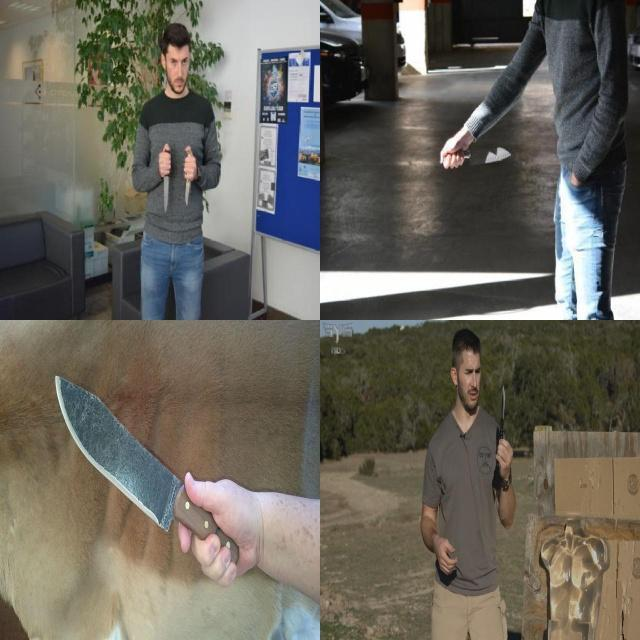-: (51, 368, 243, 589), (442, 139, 512, 169), (493, 382, 513, 469), (162, 141, 171, 215), (182, 144, 191, 209)
